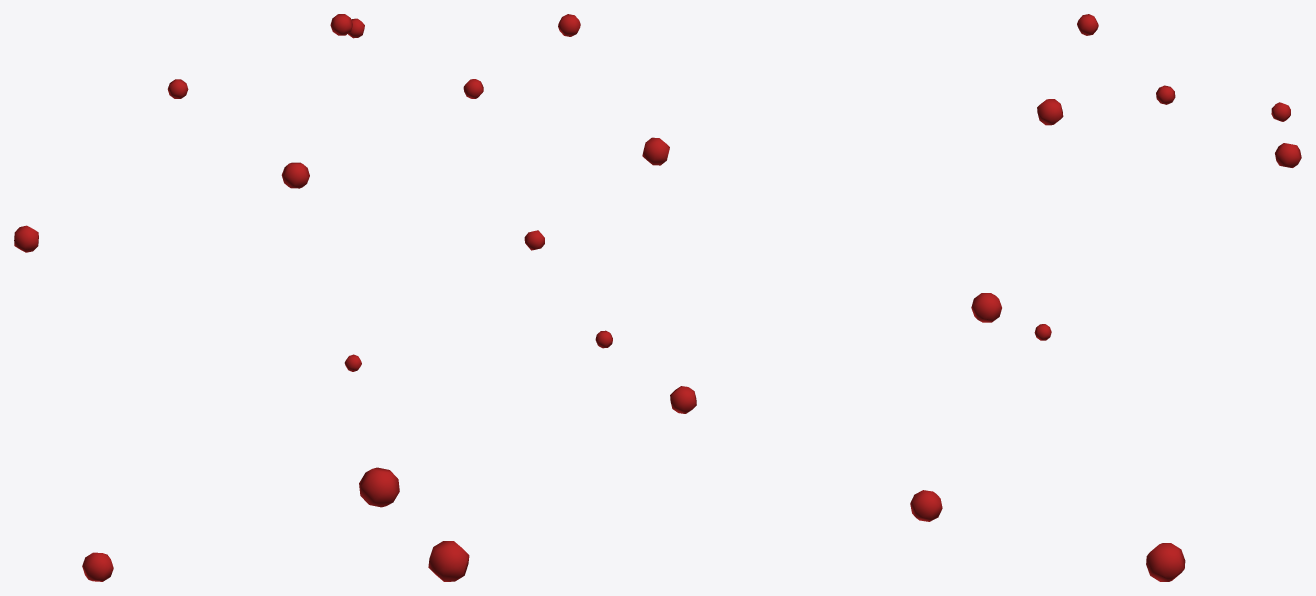
The model's file is OrnamentBallTreeRedFbx.FBX.
The picture shows the model from 3 angles, left to right: view 1: azimuth 30°, elevation 25°; view 2: azimuth 150°, elevation 25°; view 3: azimuth 270°, elevation 25°; orthographic projection. The views are drawn at different scales.
Parts seen in each view (by area): view 1: bolinhas3; view 2: bolinhas3; view 3: bolinhas3.
Boxes of the visible parts, bbox=[...] form: bolinhas3: bbox=[14, 14, 399, 581]; bolinhas3: bbox=[428, 14, 942, 581]; bolinhas3: bbox=[971, 14, 1301, 581].
Size of the model in its own units: 110 by 140 by 79.57.
